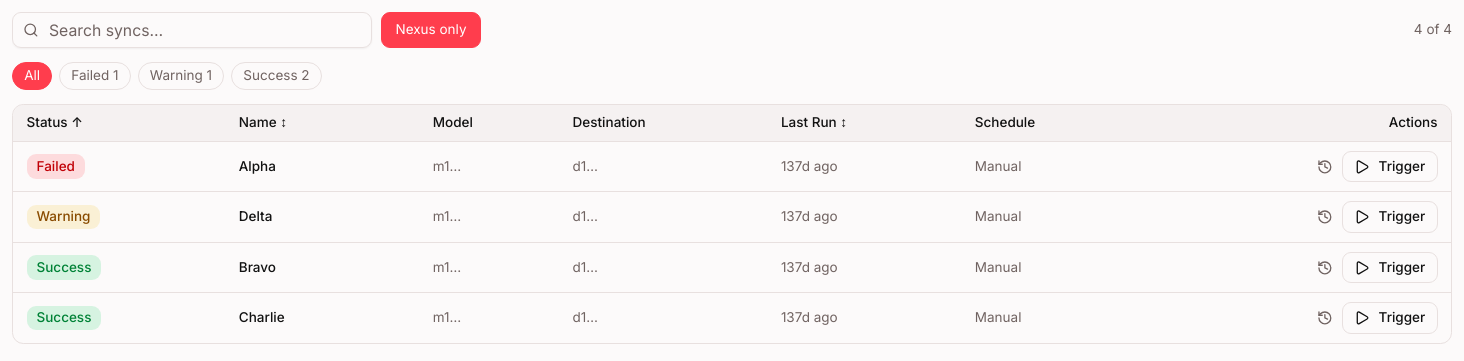
SyncsTable status filter › clears the filter when the All pill is clicked
This screenshot has width=1464, height=361.
Click the button "Failed 1": (95, 76) x1=59 y1=62 x2=131 y2=90
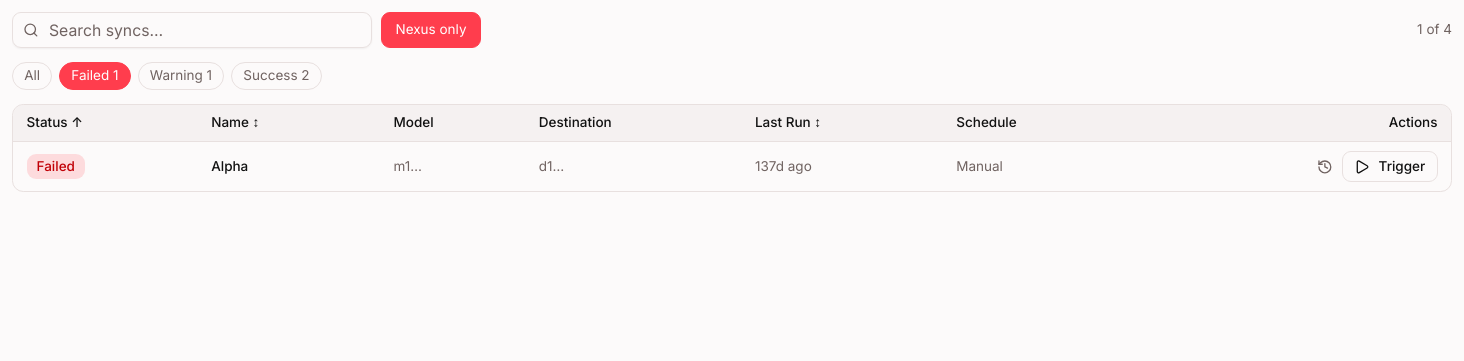
Click the button "All": (32, 76) x1=12 y1=62 x2=52 y2=90
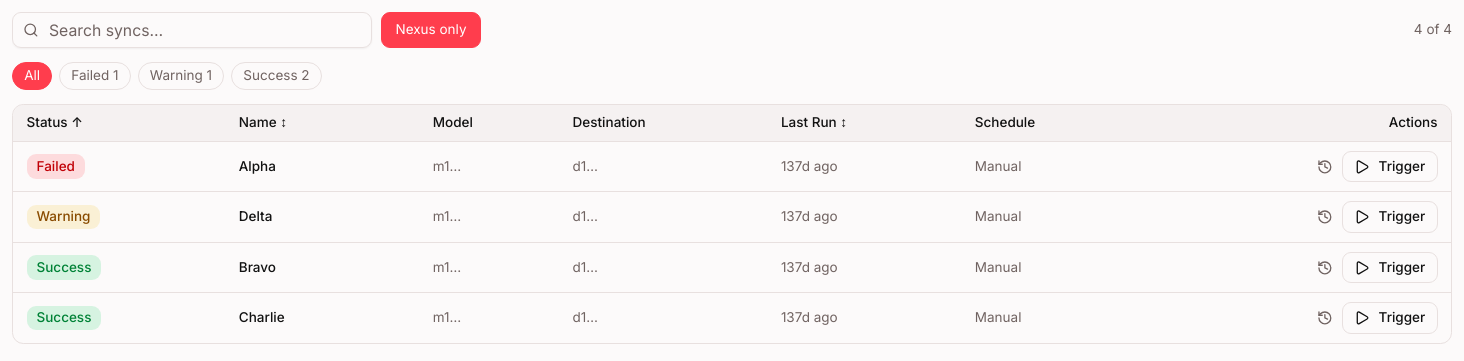
Expected: the text "Alpha" is shown, x1=239 y1=158 x2=276 y2=176
Now the text "Bravo" is shown, box x1=239 y1=259 x2=276 y2=277
Now the text "Delta" is shown, box x1=239 y1=208 x2=272 y2=226
